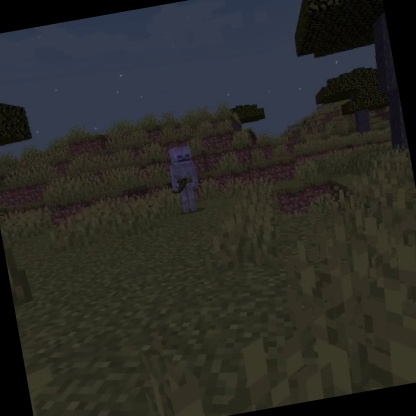skeleton: (159, 141, 209, 218)
